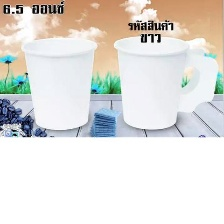paper_cup: (108, 30, 221, 133), (18, 33, 100, 133)
